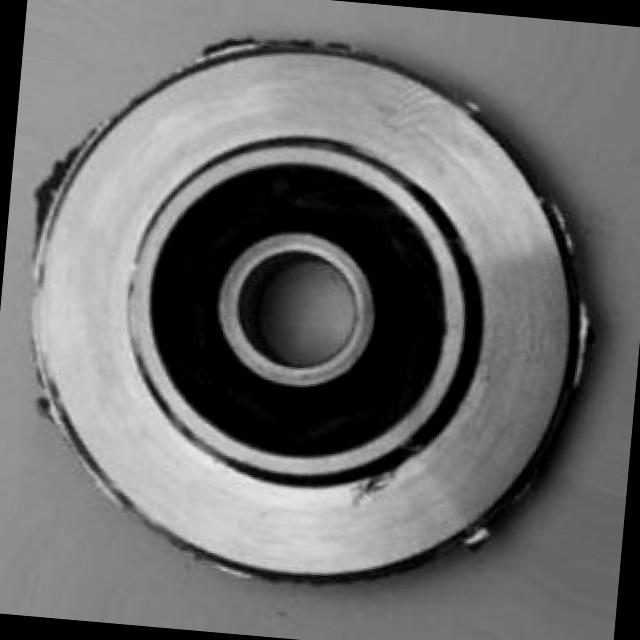Defect: (343, 466, 404, 506)
